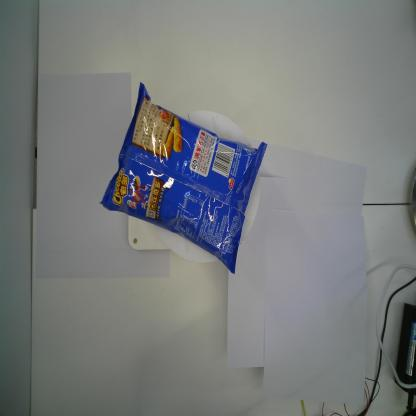Puffed Food: (96, 80, 268, 278)
